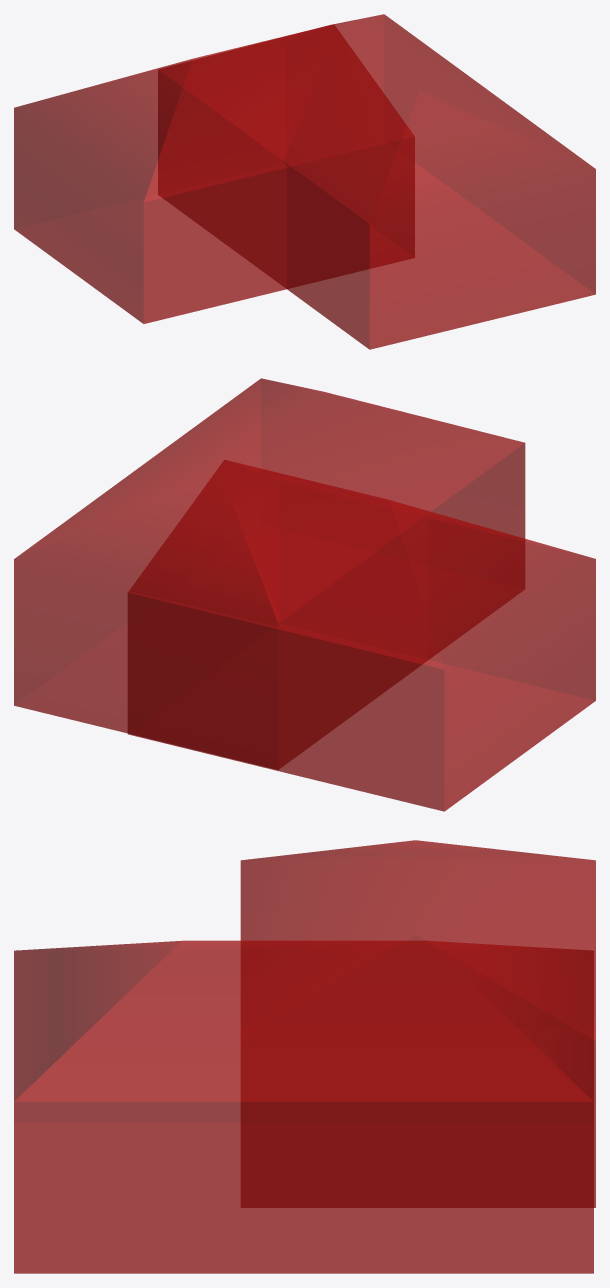
File: SM_Bld_House_Preset_03_COLLISION.fbx
3 renders of one model, top to bottom at view 1: azimuth 30°, elevation 25°; view 2: azimuth 150°, elevation 25°; view 3: azimuth 270°, elevation 25°, orthographic. The views are drawn at different scales.
Parts seen in each view (by area): view 1: SM_Bld_House_Preset_03_COLLISION; view 2: SM_Bld_House_Preset_03_COLLISION; view 3: SM_Bld_House_Preset_03_COLLISION.
Part boxes in pixels (<box>): SM_Bld_House_Preset_03_COLLISION: <box>14,14,595,349</box>; SM_Bld_House_Preset_03_COLLISION: <box>14,378,595,811</box>; SM_Bld_House_Preset_03_COLLISION: <box>14,840,595,1273</box>.
Size of the model in its own units: 1303 by 644 by 1297.
